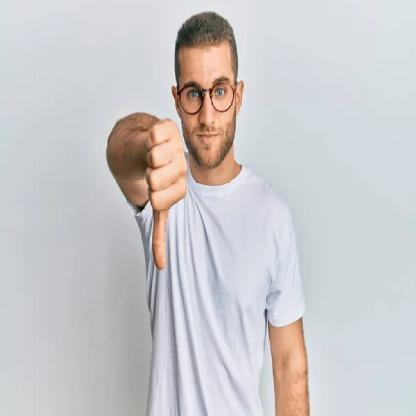thumb_down: (144, 116, 188, 272)
